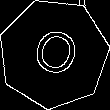O_S: (25, 23, 82, 84)
